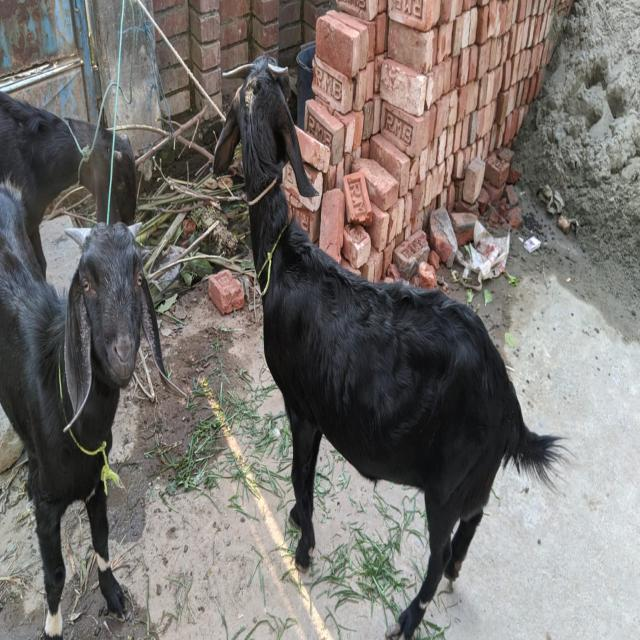not_pig: (212, 53, 576, 638), (0, 175, 167, 638), (0, 87, 137, 278)
